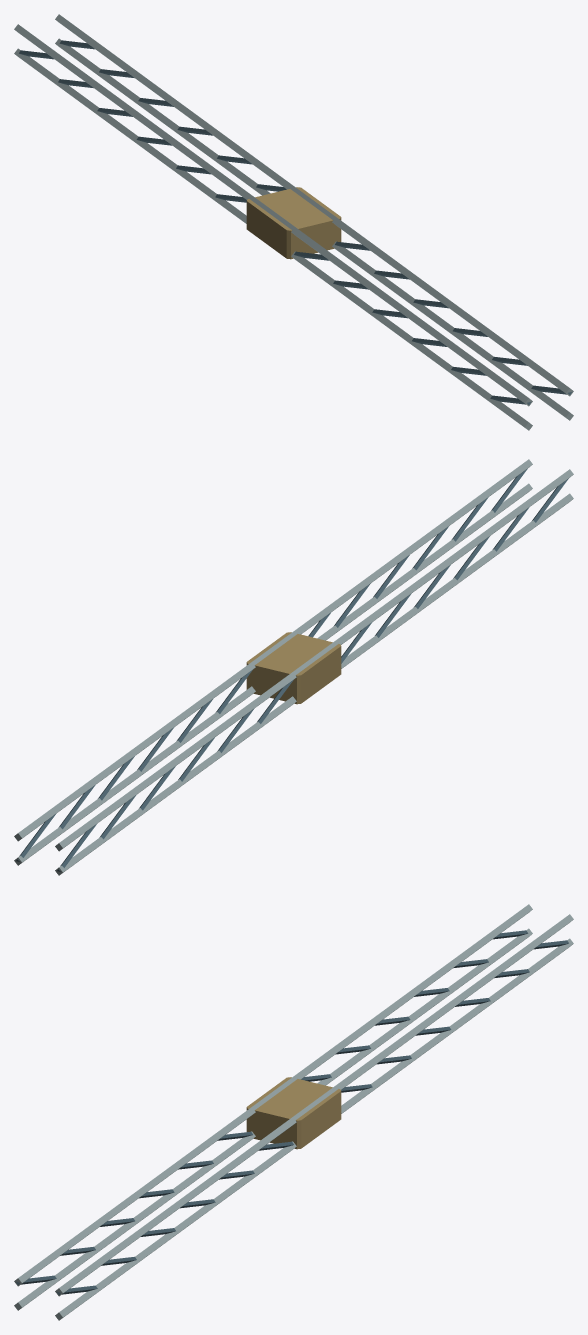
Rendered from gantry_beam.glb.
3 views of the same model, one above another, from view 1: azimuth 30°, elevation 25°; view 2: azimuth 150°, elevation 25°; view 3: azimuth 330°, elevation 25° (orthographic).
Parts seen in each view (by area): view 1: gantry_beam; view 2: gantry_beam; view 3: gantry_beam.
Boxes of the visible parts, x1,y1,x2,y2 form: gantry_beam: (14,14,573,430); gantry_beam: (14,459,573,875); gantry_beam: (14,904,573,1320).
Size of the model in its own units: 0.8 by 0.46 by 13.
